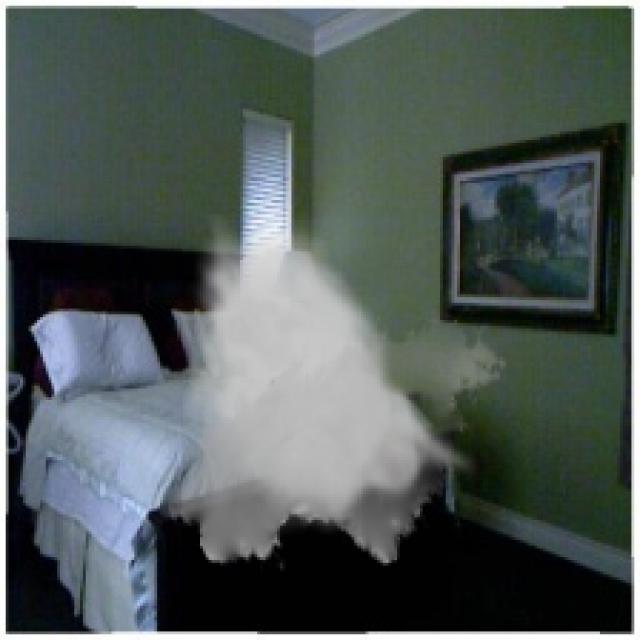smoke: (154, 215, 509, 574)
